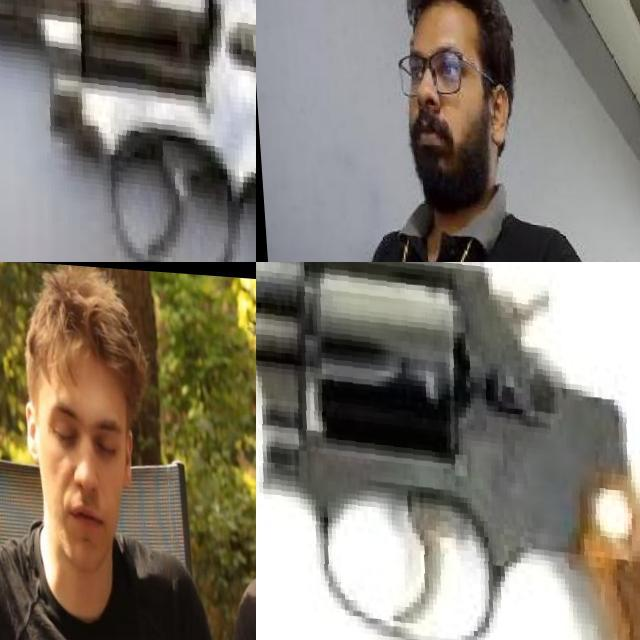gun-knife-thesis - v11 Yolov5 augmented: (256, 262, 640, 640), (0, 0, 256, 262)
